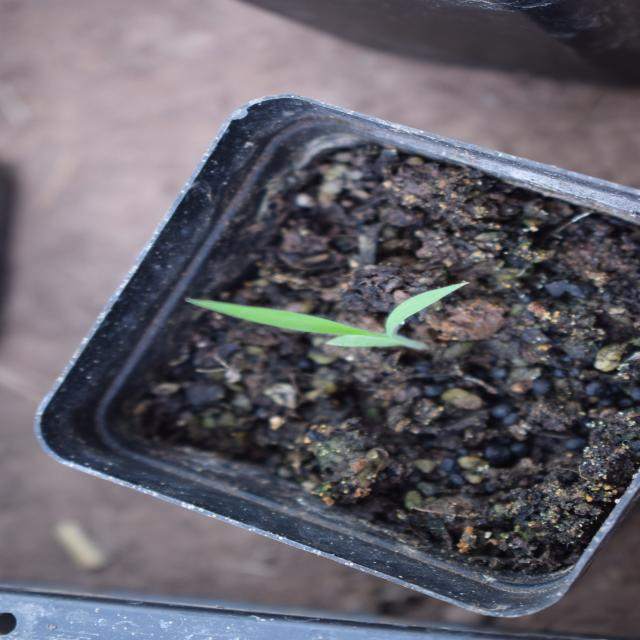crabgrass: (258, 176, 386, 471)
